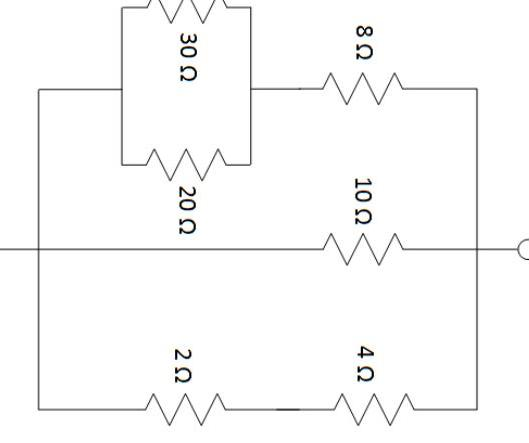resistor: (129, 377, 248, 432), (313, 383, 435, 435), (304, 219, 411, 272), (304, 67, 422, 112), (132, 133, 235, 177)
